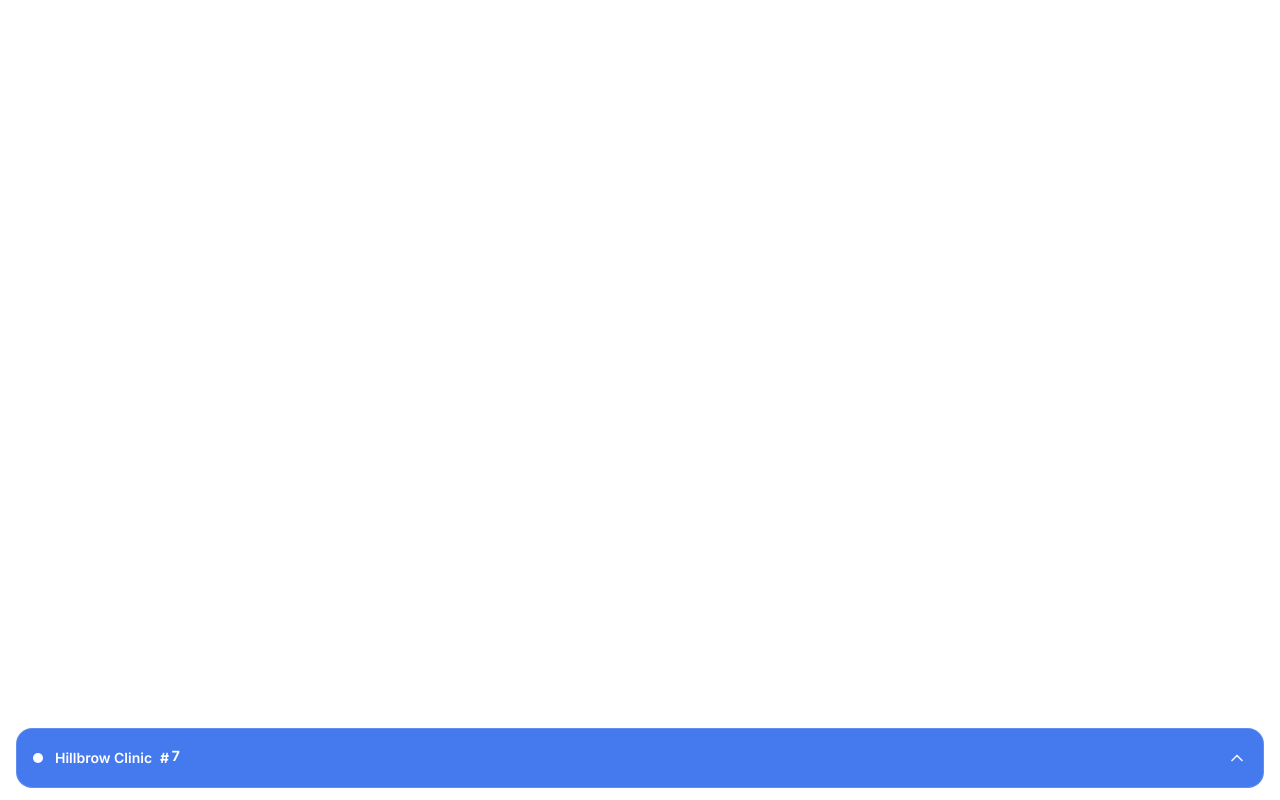
Test: FlowBar › shows Get directions in expanded state when no route is stored
Later steps or results of the test are not shown.
Click the element with test id "flow-bar": coordinates (640, 758) [16, 728, 1264, 788]
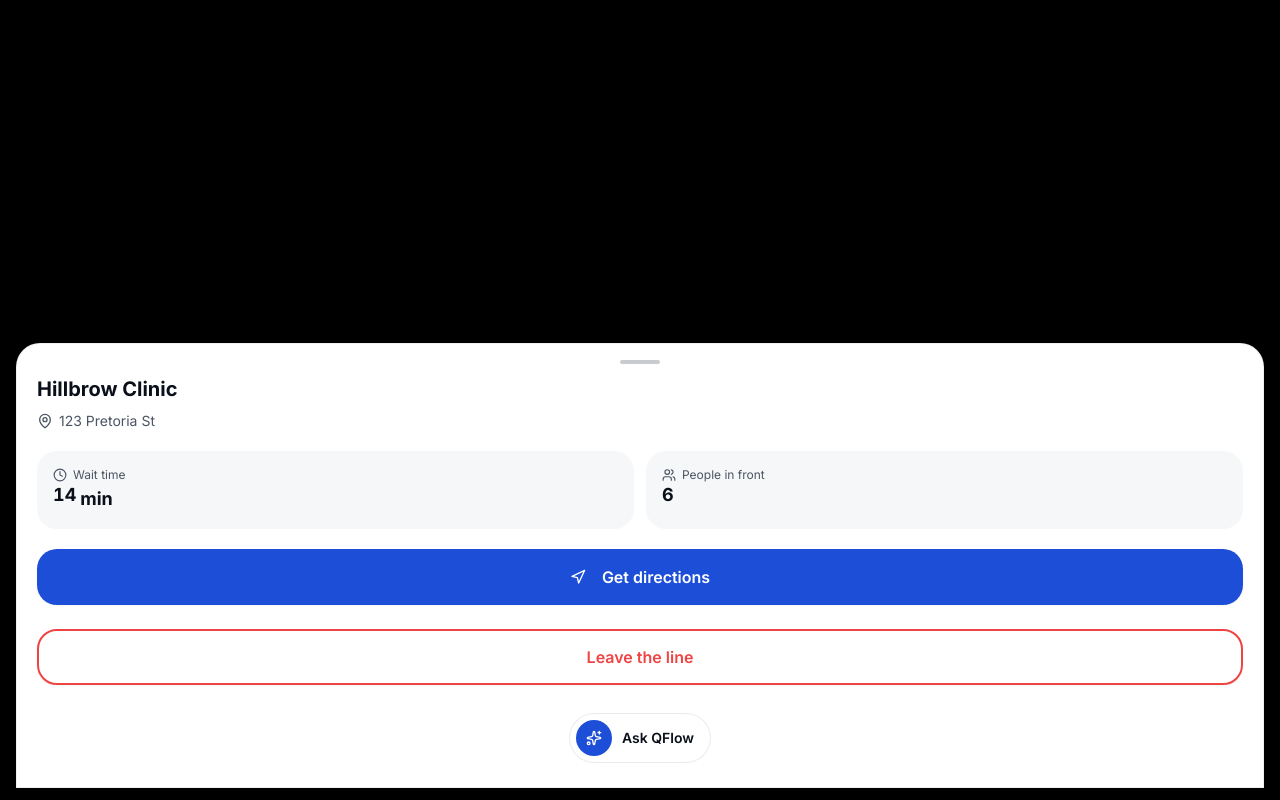
expect the button with test id "directions-button" is shown: met, box [37, 549, 1243, 605]
